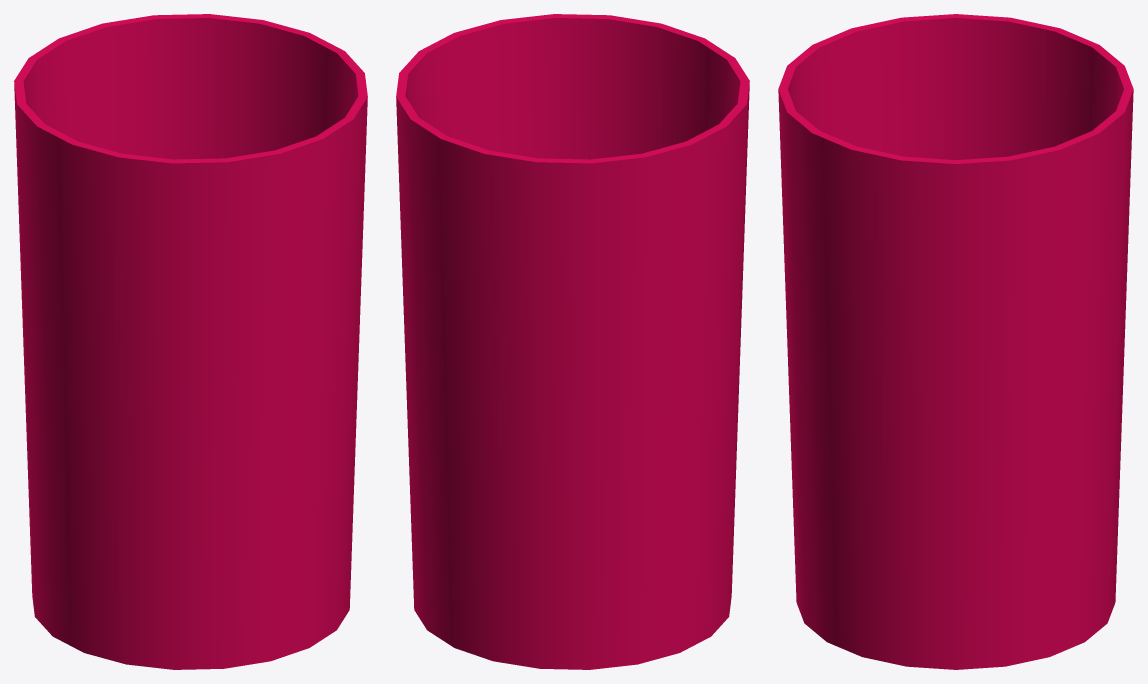
File: Tumbler_01_Lod0.fbx
3 views of the same model, side by side, from view 1: azimuth 30°, elevation 25°; view 2: azimuth 150°, elevation 25°; view 3: azimuth 270°, elevation 25° (orthographic).
Visible parts, largest first — view 1: Tumbler_01_Lod0; view 2: Tumbler_01_Lod0; view 3: Tumbler_01_Lod0.
Boxes of the visible parts, x1,y1,x2,y2 form: Tumbler_01_Lod0: (14,14,367,669); Tumbler_01_Lod0: (396,14,749,669); Tumbler_01_Lod0: (778,14,1133,669).
Size of the model in its own units: 7.95 by 12.68 by 7.95.
